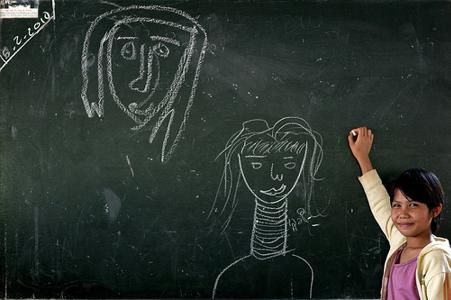person: (349, 127, 451, 300)
